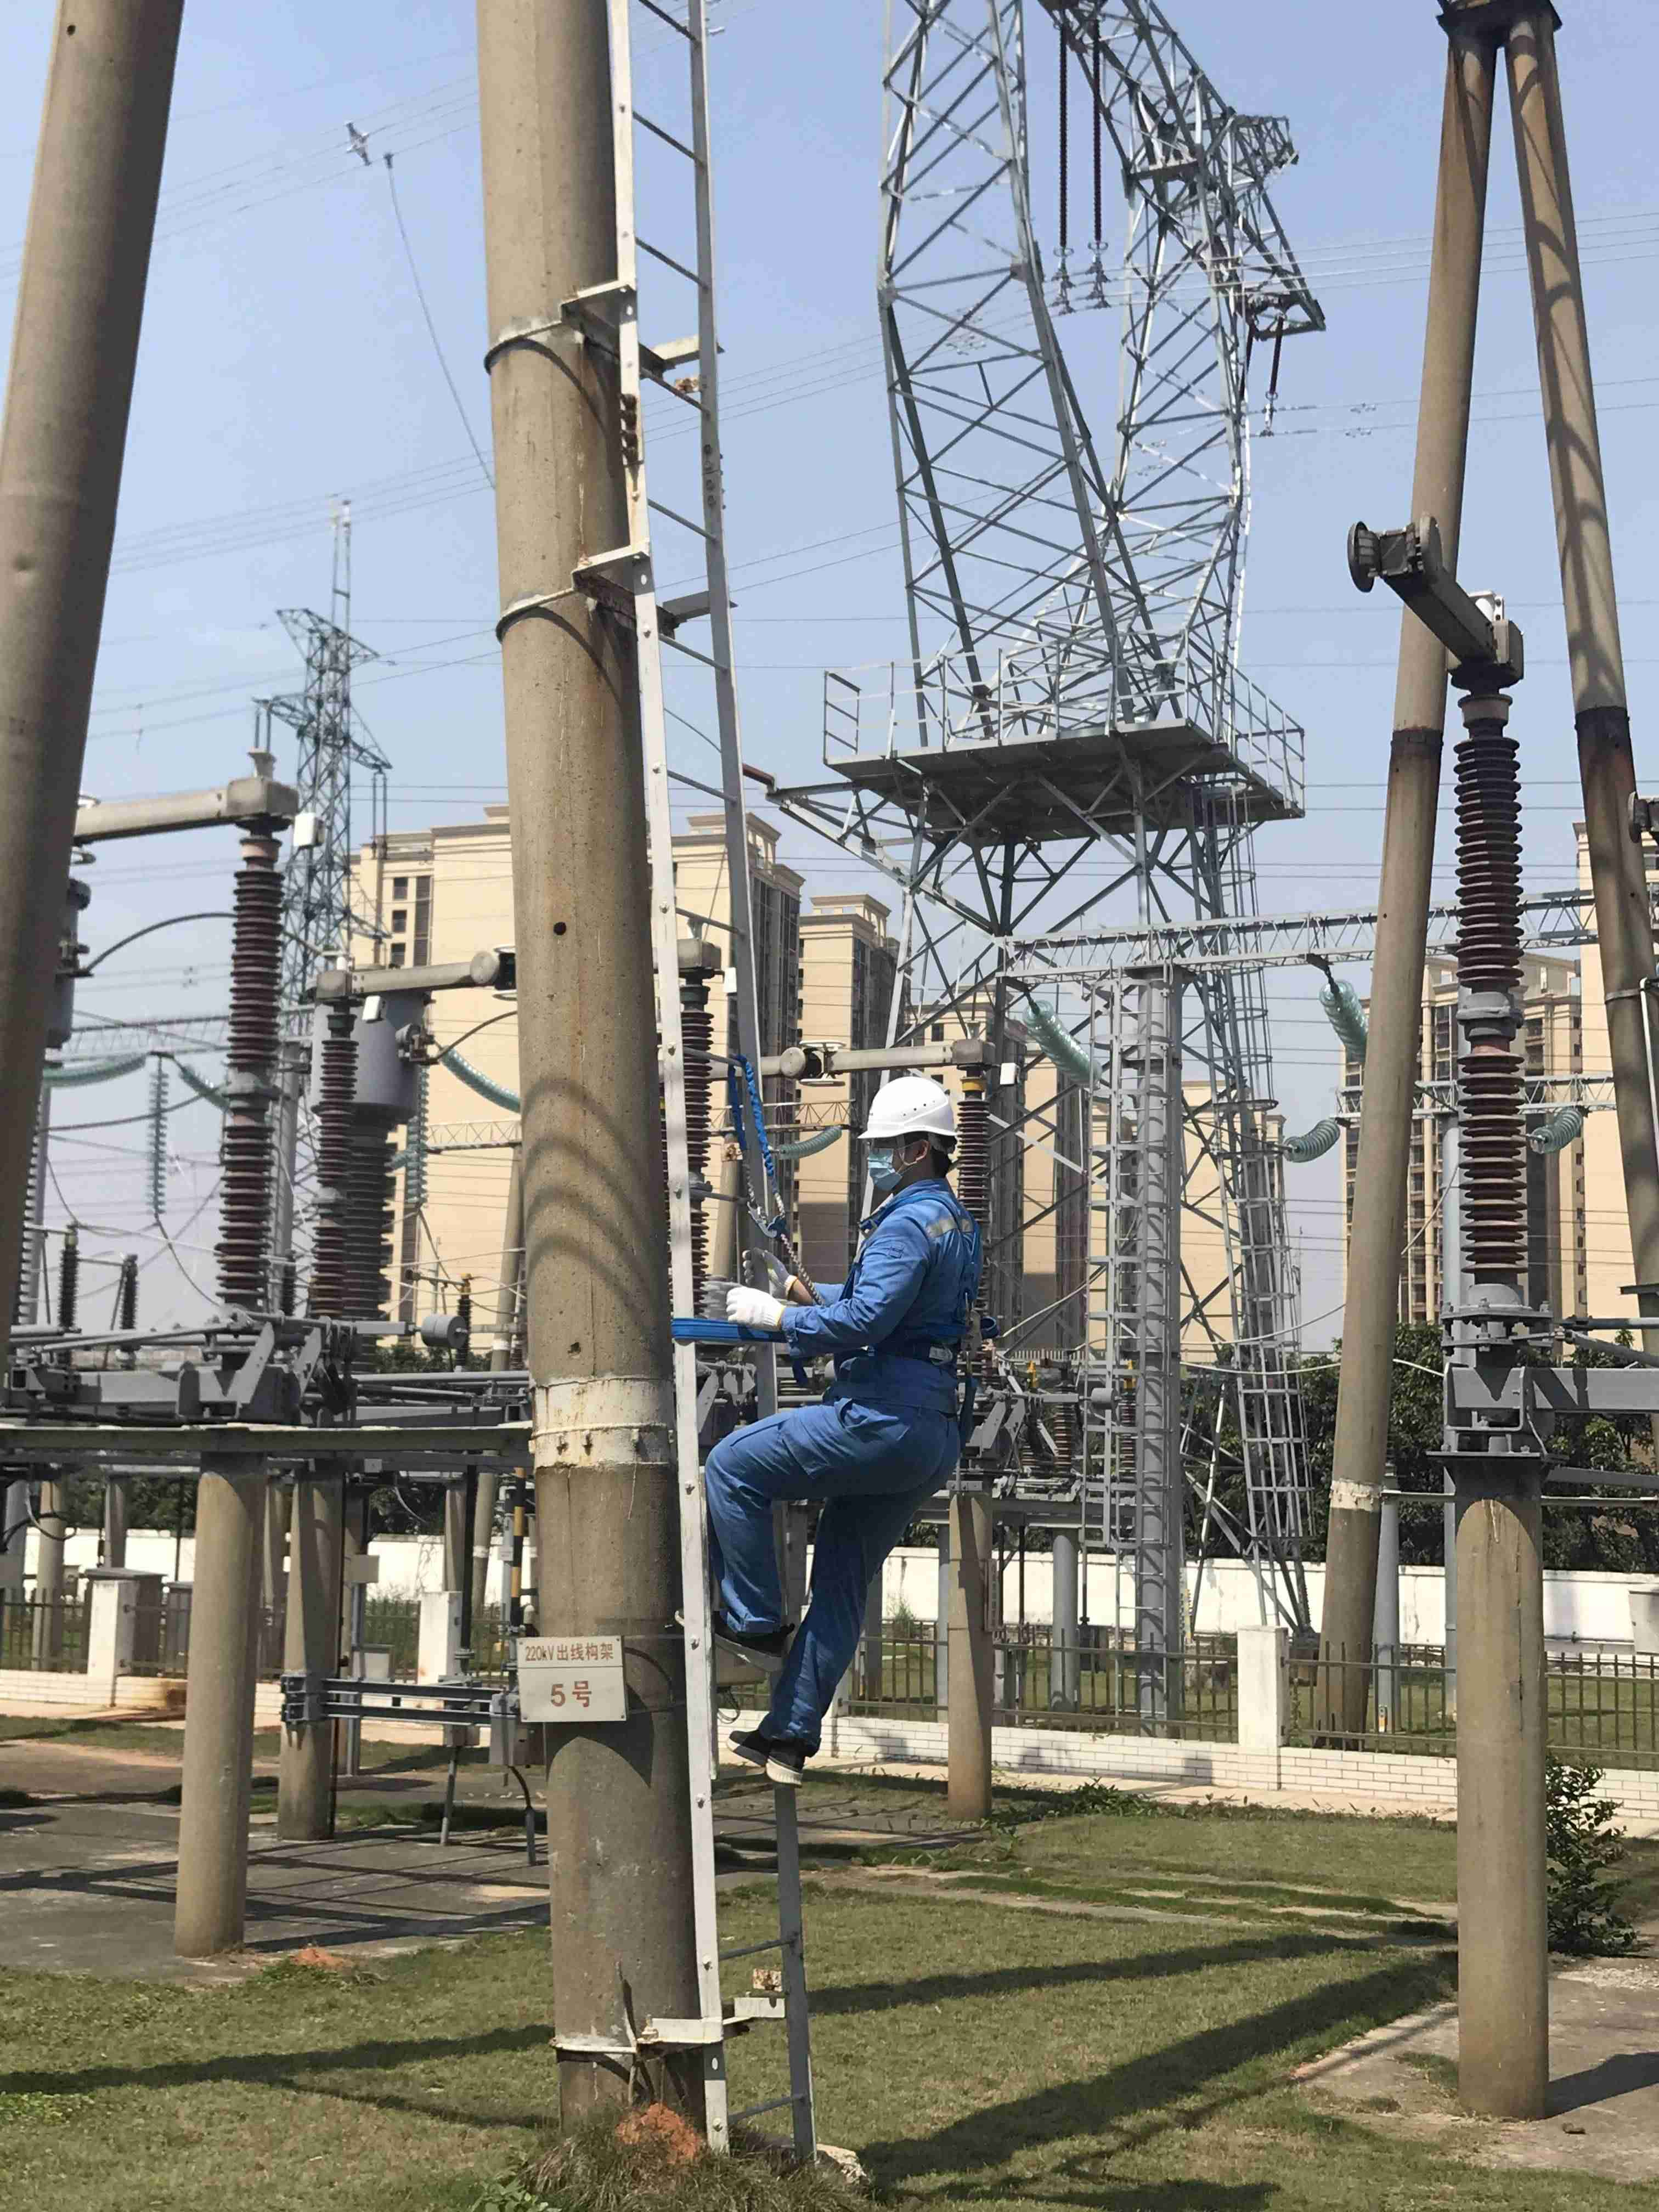downsuit: (708, 1409, 960, 1747)
upsuit: (795, 1181, 983, 1399)
